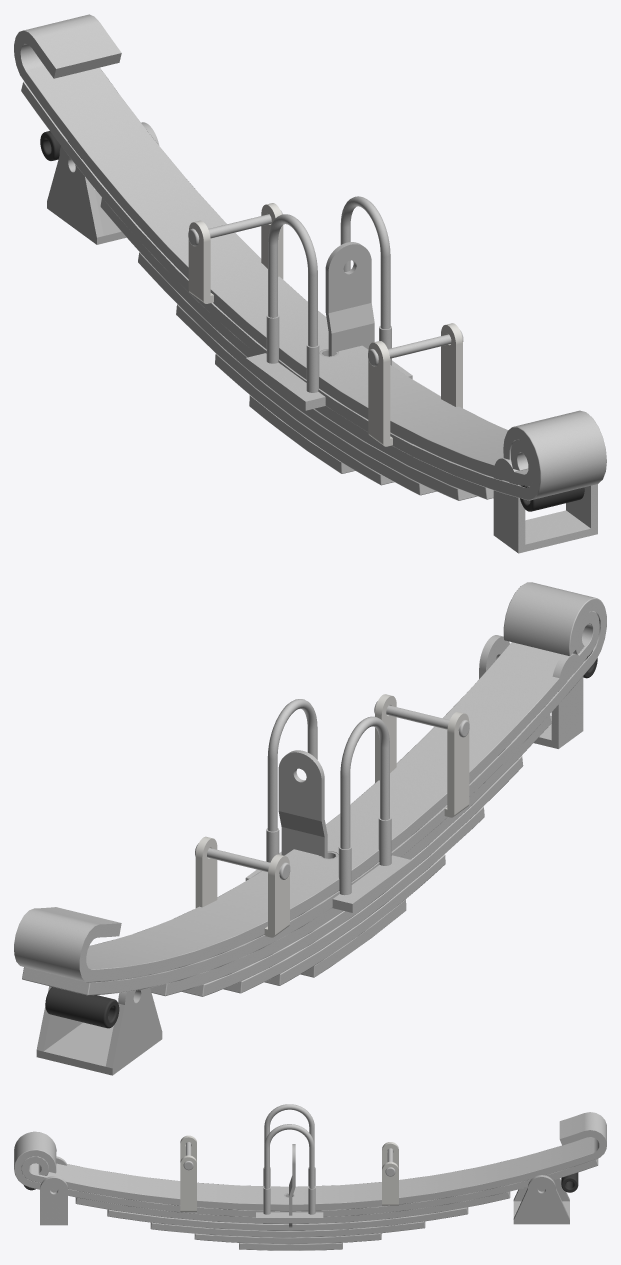
File: Leaf Spring_assembled.glb
3 renders of one model, top to bottom at view 1: azimuth 30°, elevation 25°; view 2: azimuth 150°, elevation 25°; view 3: azimuth 270°, elevation 25°, orthographic. The views are drawn at different scales.
Parts seen in each view (by area): view 1: Leaf Stack, Center Clamp, Support, Rigid Mount, Primary Clamp, Chassis Mount, Secondary Clamp, Rubber Bush R; view 2: Leaf Stack, Center Clamp, Chassis Mount, Support, Primary Clamp, Secondary Clamp, Rigid Mount, Rubber Bush L; view 3: Leaf Stack, Center Clamp, Chassis Mount, Rigid Mount, Primary Clamp, Secondary Clamp, Support, Rubber Bush L.
Part boxes in pixels (x1,y1,x2,y2): Leaf Stack: (14, 14, 606, 500); Center Clamp: (245, 196, 412, 410); Support: (325, 242, 374, 356); Rigid Mount: (493, 458, 597, 553); Primary Clamp: (368, 323, 463, 446); Chassis Mount: (47, 122, 159, 244); Secondary Clamp: (188, 203, 283, 303); Rubber Bush R: (520, 485, 584, 511); Leaf Stack: (14, 582, 606, 996); Center Clamp: (245, 699, 412, 912); Chassis Mount: (36, 974, 162, 1075); Support: (278, 750, 327, 858); Primary Clamp: (374, 694, 469, 817); Secondary Clamp: (195, 836, 290, 937); Rigid Mount: (479, 635, 583, 748); Rubber Bush L: (45, 987, 119, 1028); Leaf Stack: (14, 1112, 606, 1250); Center Clamp: (256, 1104, 323, 1222); Chassis Mount: (513, 1175, 569, 1224); Rigid Mount: (40, 1156, 67, 1225); Primary Clamp: (180, 1135, 196, 1211); Secondary Clamp: (382, 1142, 398, 1205); Support: (289, 1144, 295, 1227); Rubber Bush L: (561, 1172, 578, 1192).
Bounding box in the file's own units: 0.124 × 0.2513 × 1.06.
14 materials, 6 textured.
